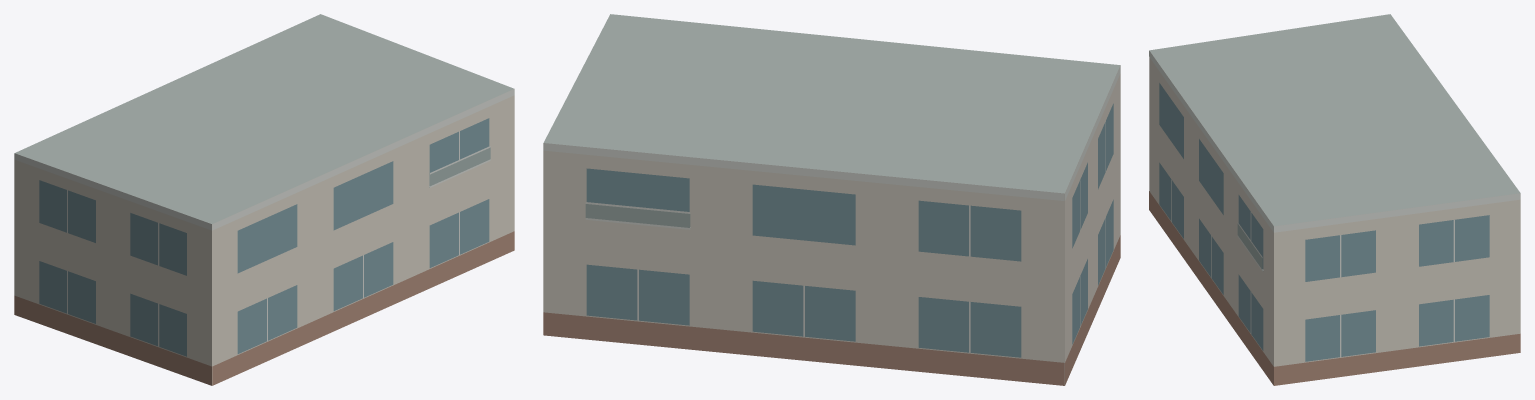
File: survey-upis-32707947.glb
3 renders of one model, left to right at view 1: azimuth 30°, elevation 25°; view 2: azimuth 150°, elevation 25°; view 3: azimuth 270°, elevation 25°, orthographic. The views are drawn at different scales.
Visible parts, largest first — view 1: survey-upis-32707947.tmp; view 2: survey-upis-32707947.tmp; view 3: survey-upis-32707947.tmp.
Part boxes in pixels (left/top/right/bottom): survey-upis-32707947.tmp: left=14, top=14, right=514, bottom=385; survey-upis-32707947.tmp: left=543, top=14, right=1120, bottom=385; survey-upis-32707947.tmp: left=1149, top=14, right=1520, bottom=385.
Bounding box in the file's own units: 17.43 × 6.1 × 12.89.
